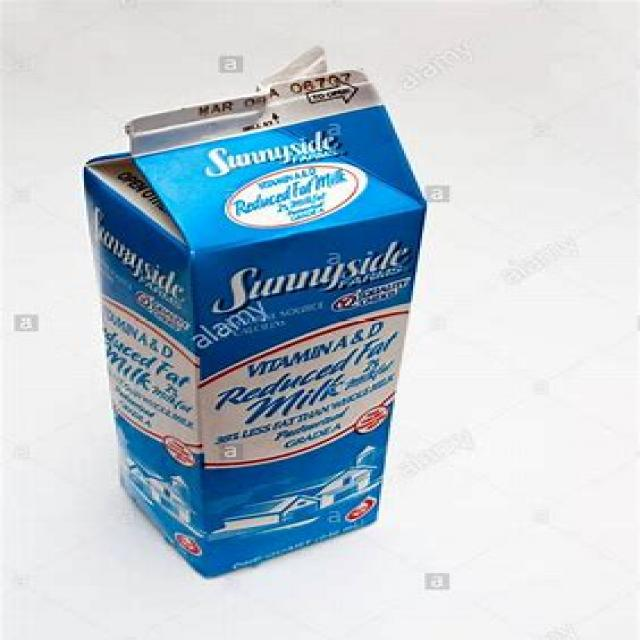non_white_jug: (78, 38, 434, 583)
